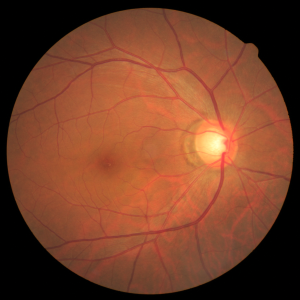glaucoma: (81, 95, 259, 206)
